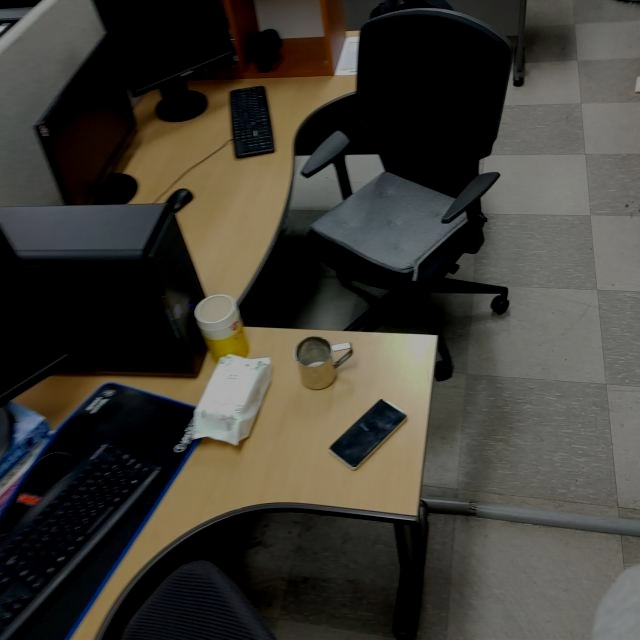cup: (295, 332, 355, 392)
phone: (329, 396, 407, 471)
